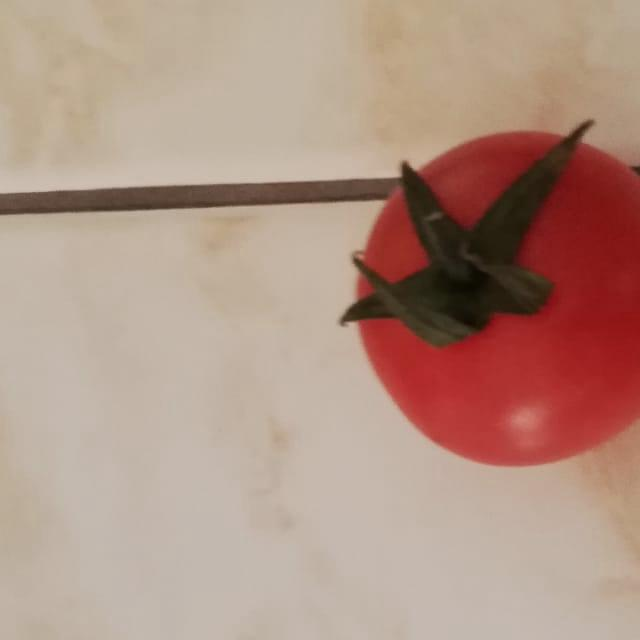tomato: (336, 107, 640, 477)
